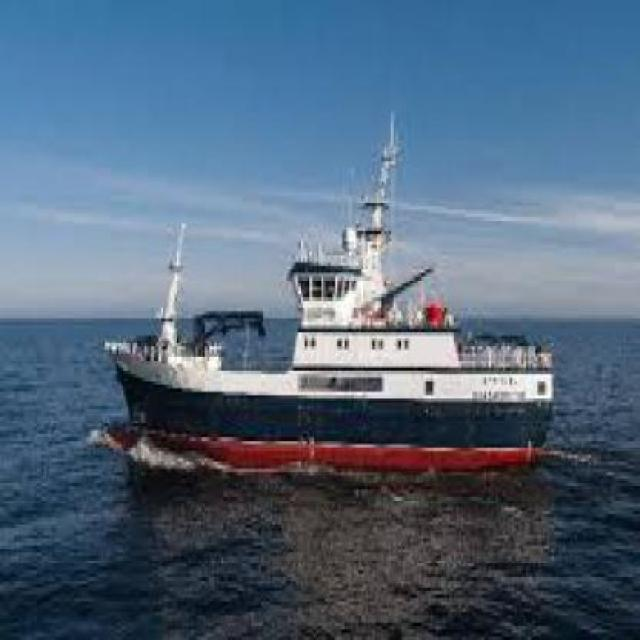fish-b: (96, 107, 569, 481)
